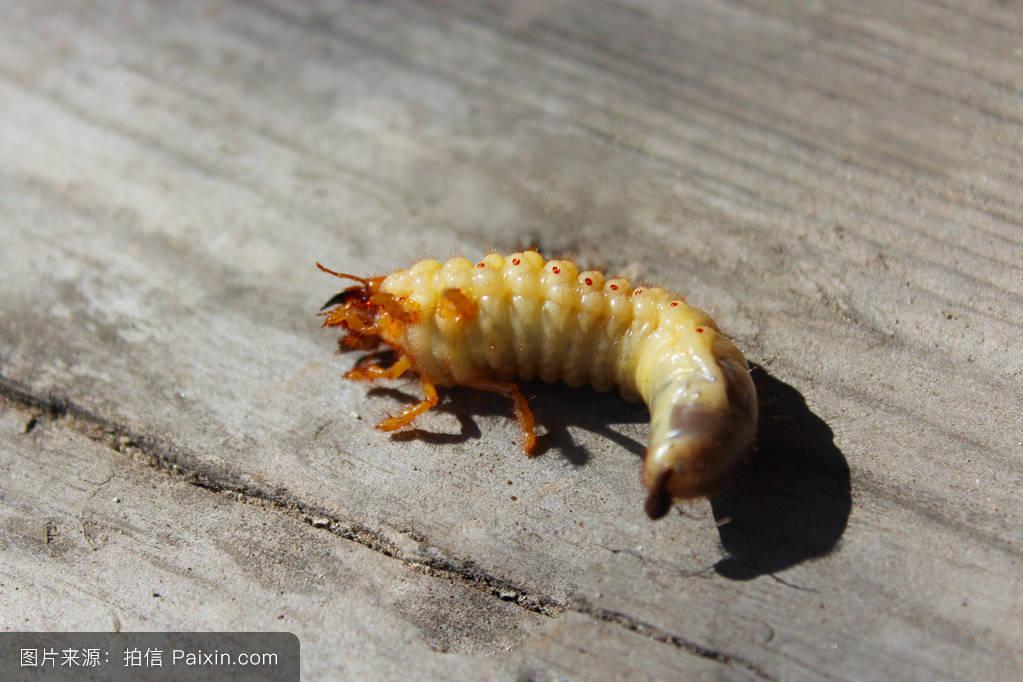grub: (300, 248, 765, 530)
